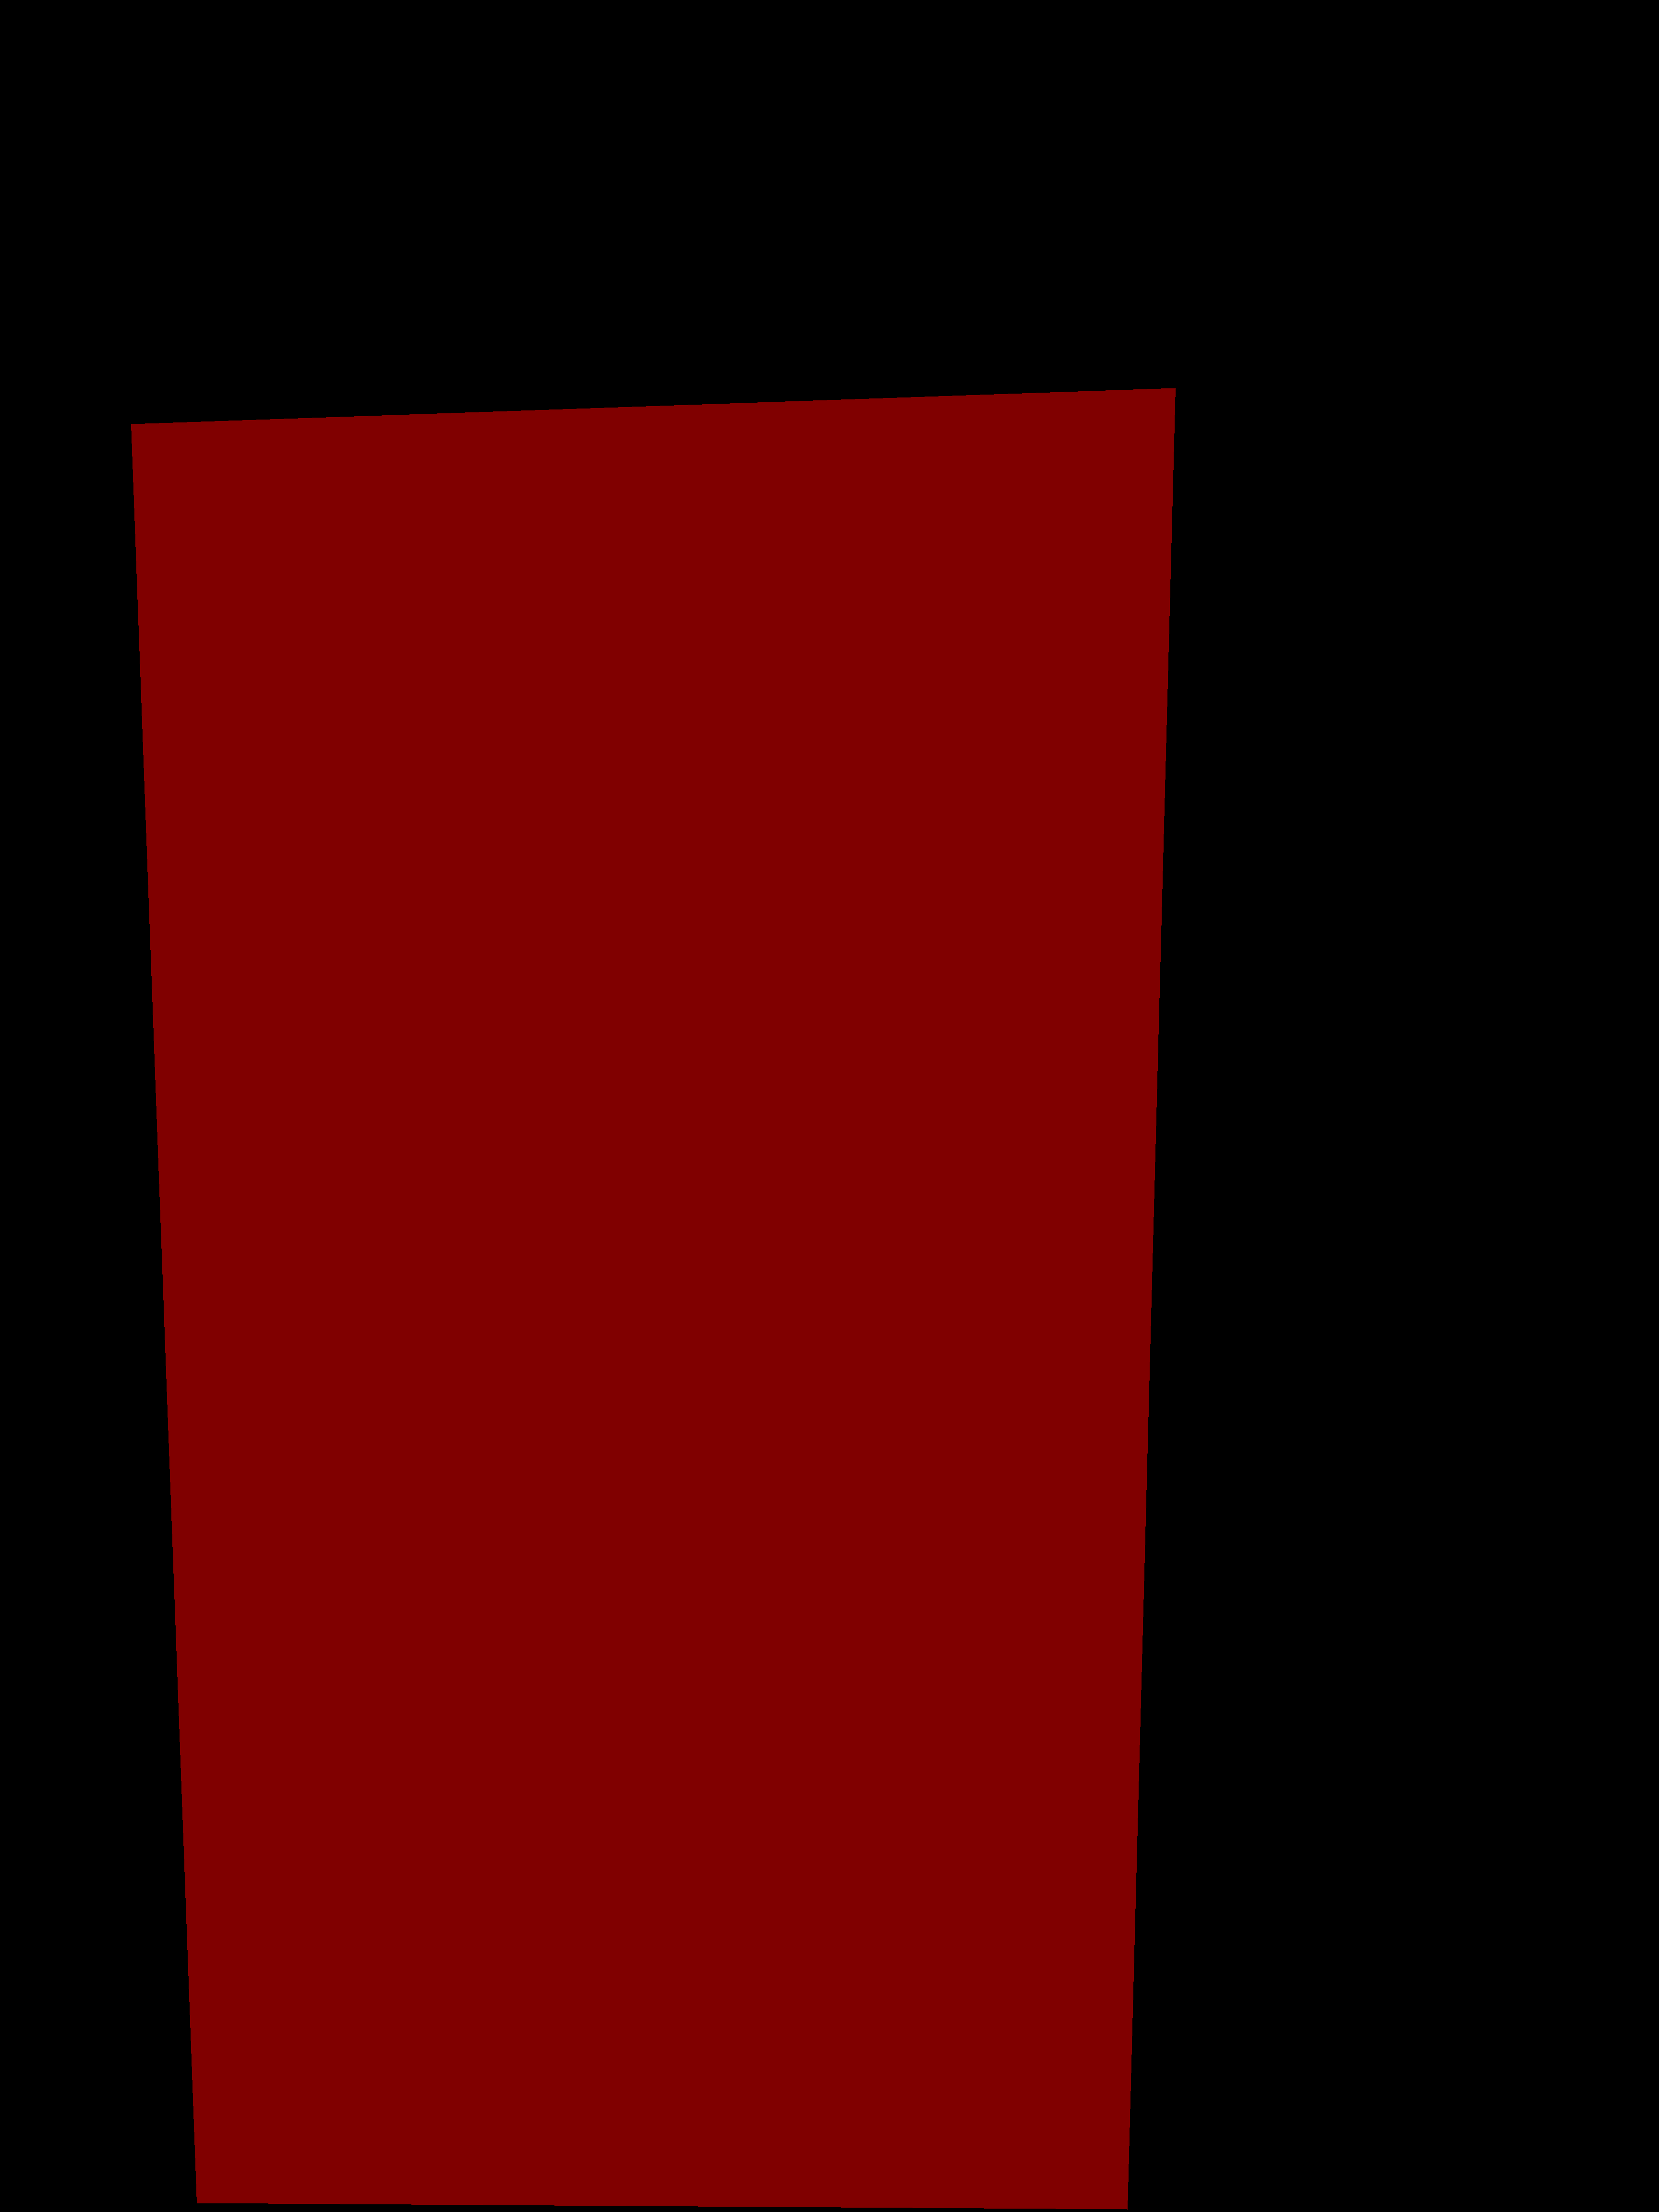door: (131, 388, 1175, 2209)
